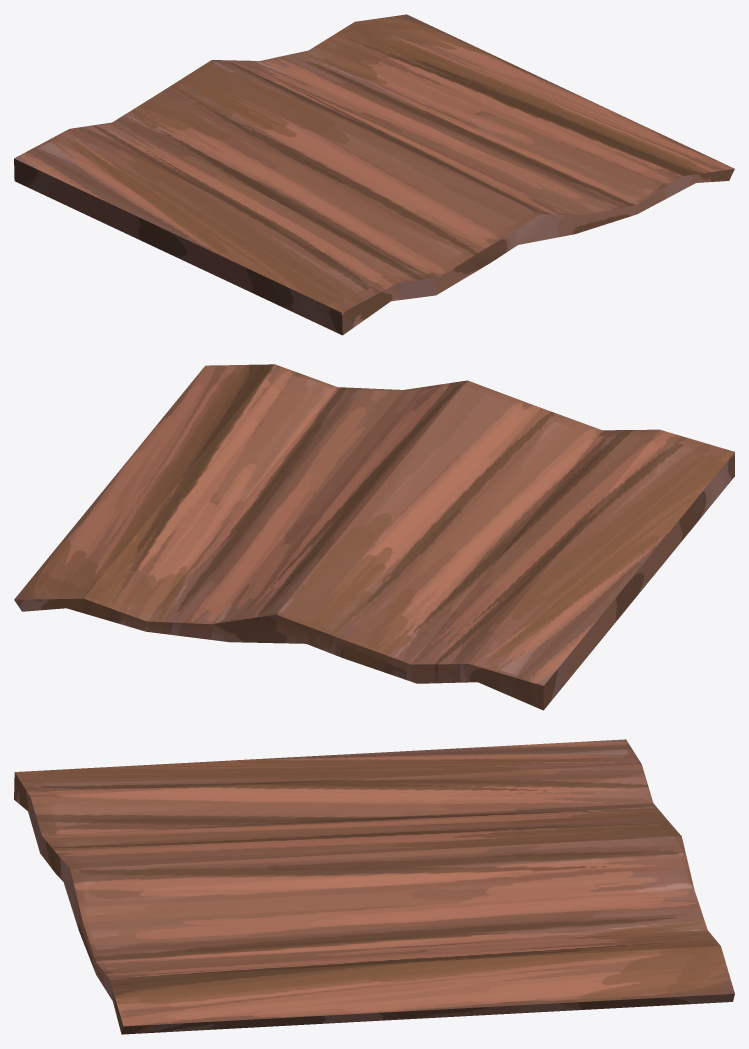
Rendered from Cardboard_002.fbx.
3 views of the same model, one above another, from view 1: azimuth 30°, elevation 25°; view 2: azimuth 150°, elevation 25°; view 3: azimuth 270°, elevation 25° (orthographic). The views are drawn at different scales.
Parts seen in each view (by area): view 1: Cardboard02; view 2: Cardboard02; view 3: Cardboard02.
Boxes of the visible parts, box(x1,y1,x2,y2) form: Cardboard02: box(14, 14, 734, 335); Cardboard02: box(14, 364, 734, 710); Cardboard02: box(14, 739, 734, 1034).
Size of the model in its own units: 1310 by 149 by 1306.
